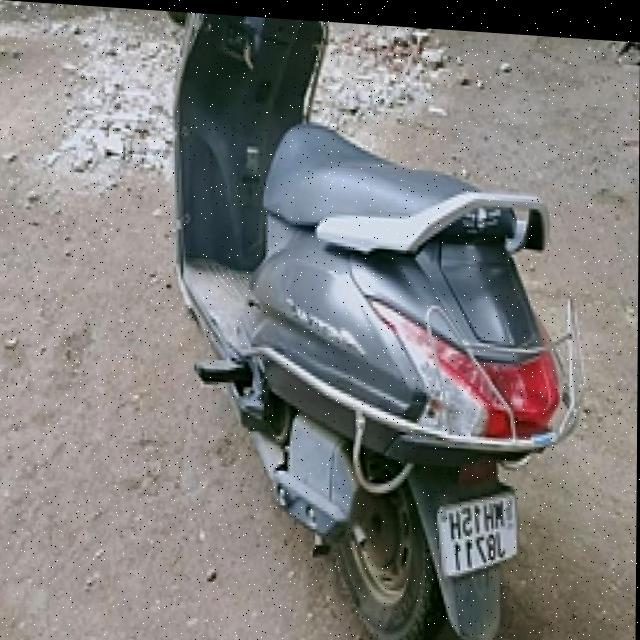plate: (437, 479, 522, 575)
